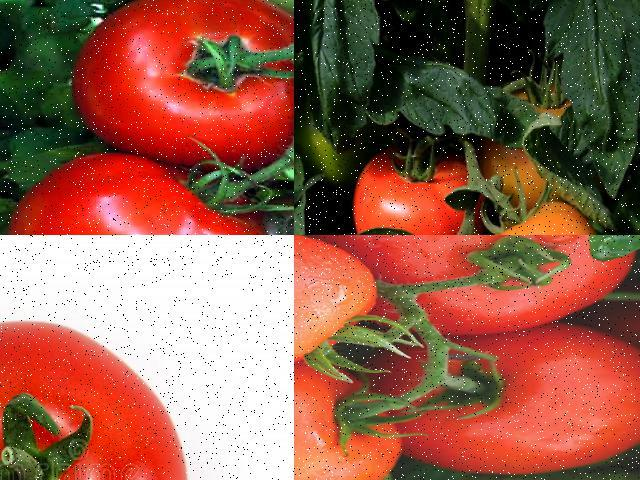tomato: (72, 0, 293, 166), (392, 335, 639, 476), (0, 313, 198, 479), (324, 235, 639, 336), (1, 153, 269, 234), (294, 365, 420, 479), (294, 235, 383, 385), (356, 159, 478, 234)
